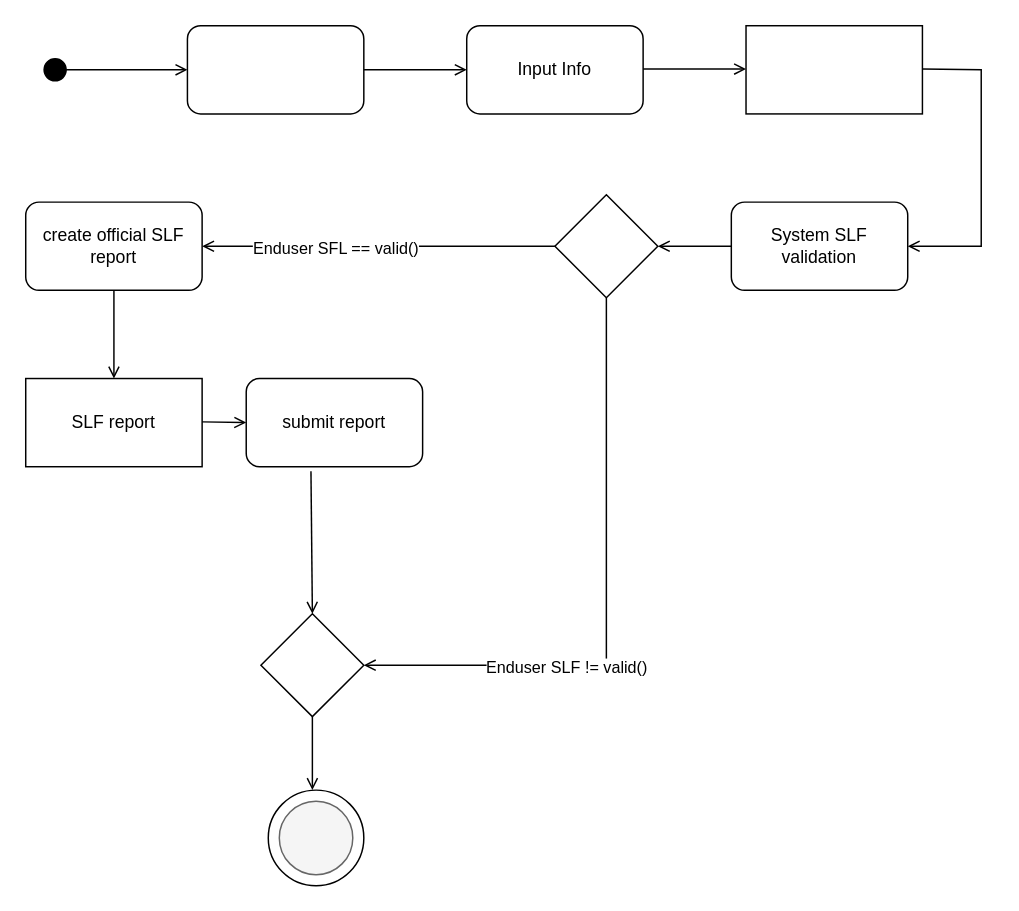
This 1019x911 diagram has some shape labels left out. The shapes that lost their labels are listed below. From the top down, each one's centre as x and y in pixels, then its label:
pixel 275 69: Take image
pixel 833 69: Enduser SLF
